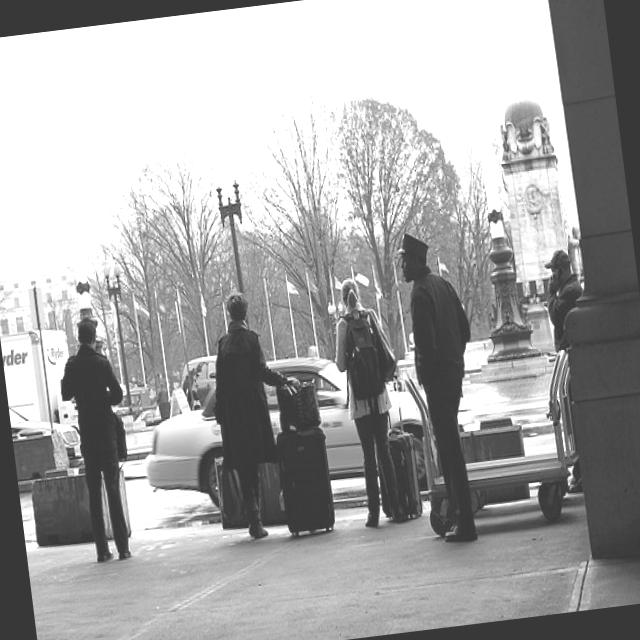Vehicle: (134, 342, 438, 514), (0, 321, 76, 428), (7, 388, 84, 472), (176, 352, 224, 410)
